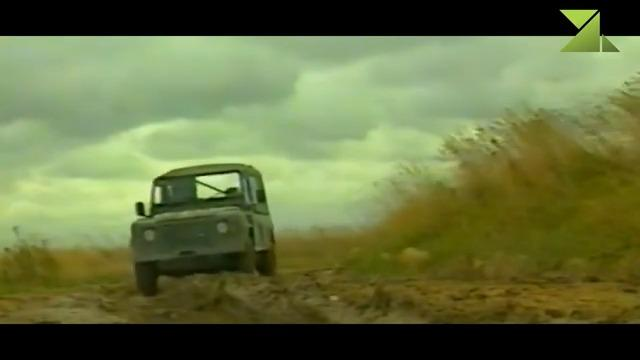MIL_HMMWV: (128, 162, 279, 293)
